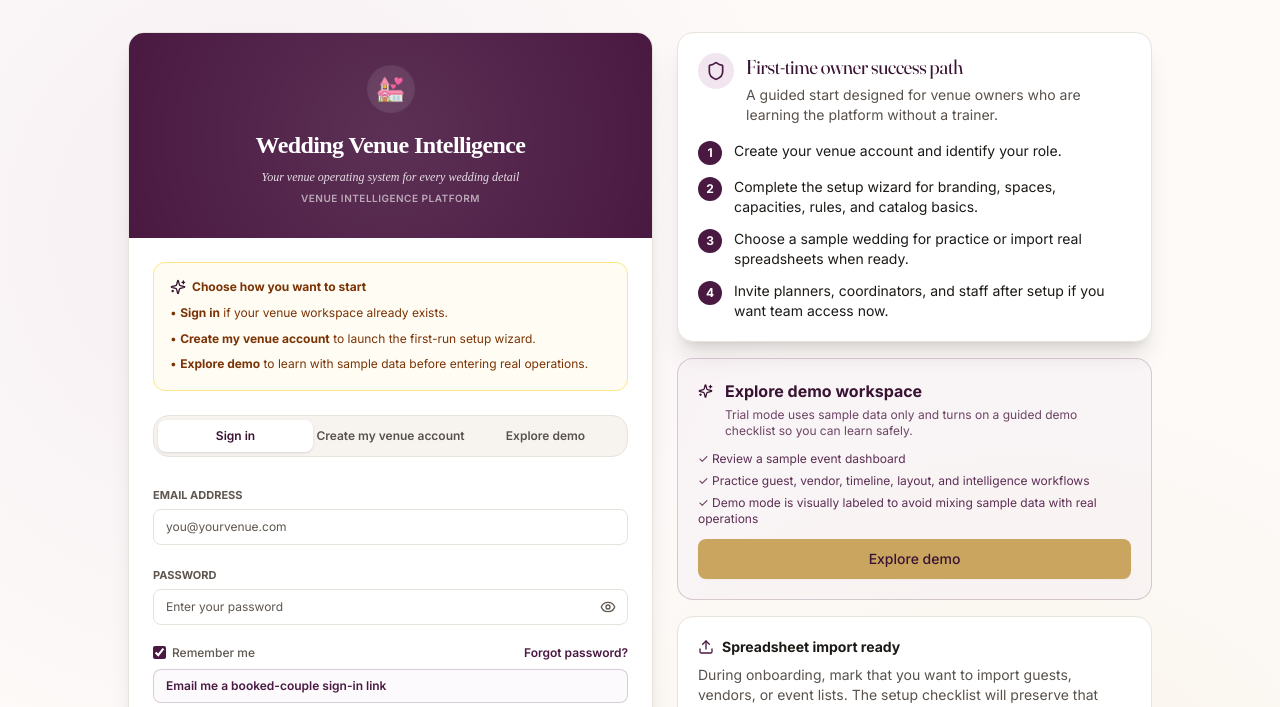
Test case: AuthScreen first-time owner UX › shows a helpful message (not a raw error code) when sign-in hits a server 500
The width and height of the screenshot is (1280, 707).
Type "owner@demo.local" into the field labelled "Email address" at [390, 526], box [153, 508, 628, 544]
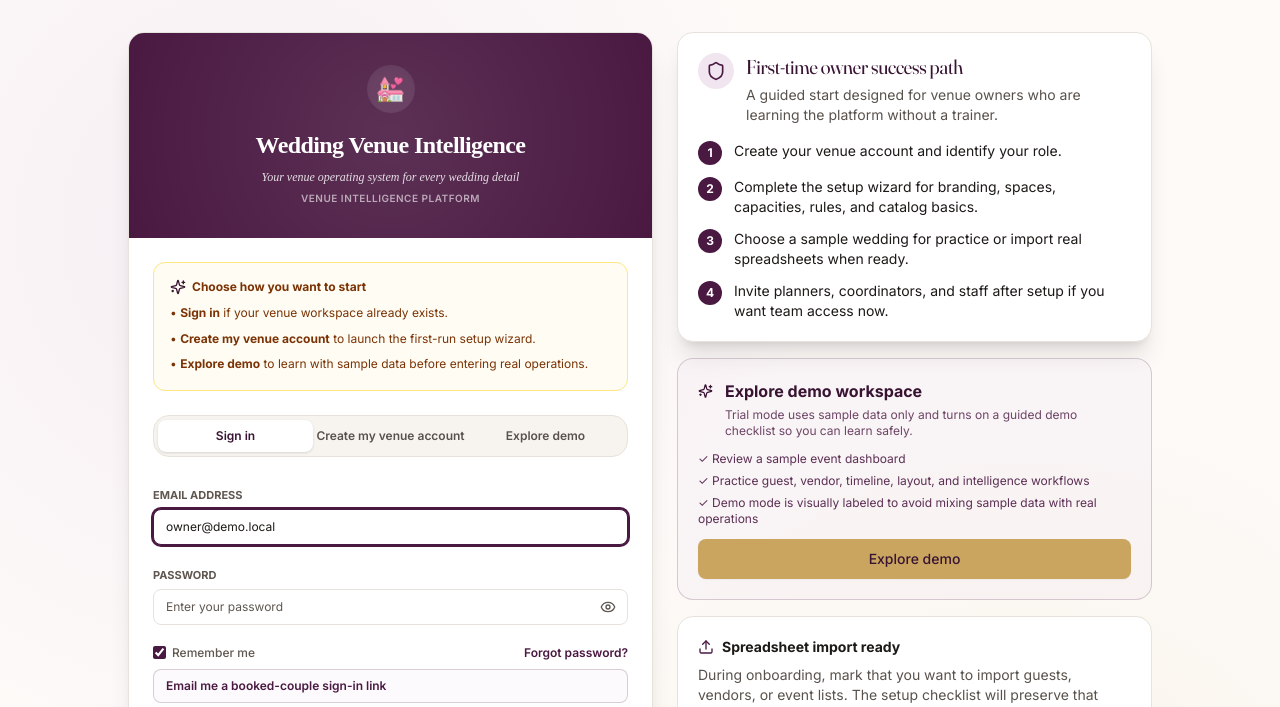
Type "wedding123" into the password field labelled "Password" at [390, 606], box [153, 588, 628, 624]
(page scrolled)
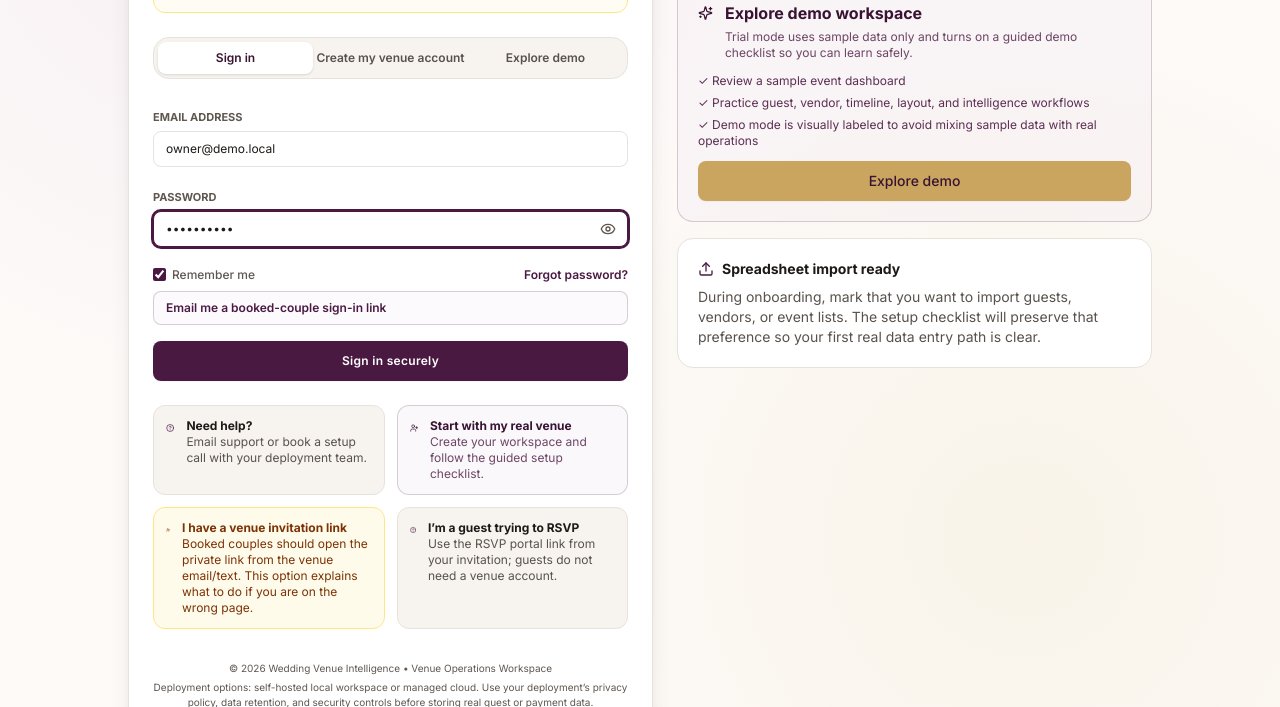
Click the button "Sign in securely" at [390, 360], box [153, 340, 628, 380]
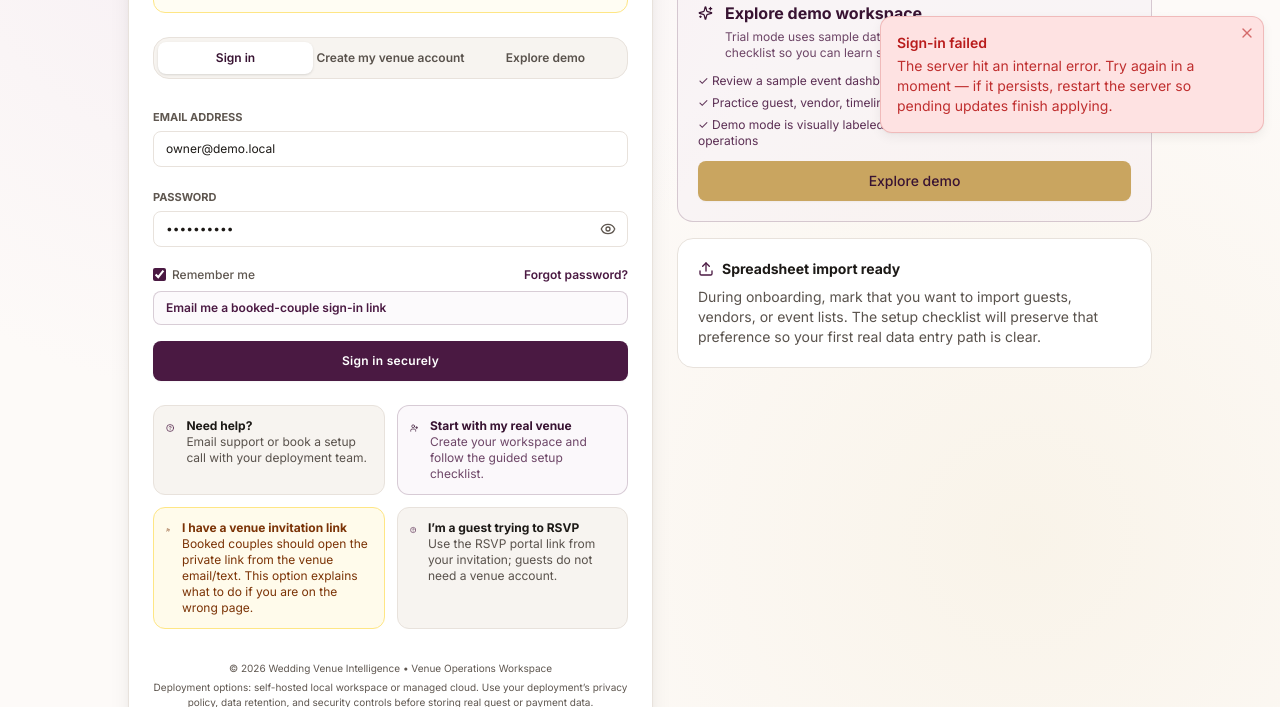
Check: the text "server hit an internal error" is shown, box [897, 57, 1194, 114]
